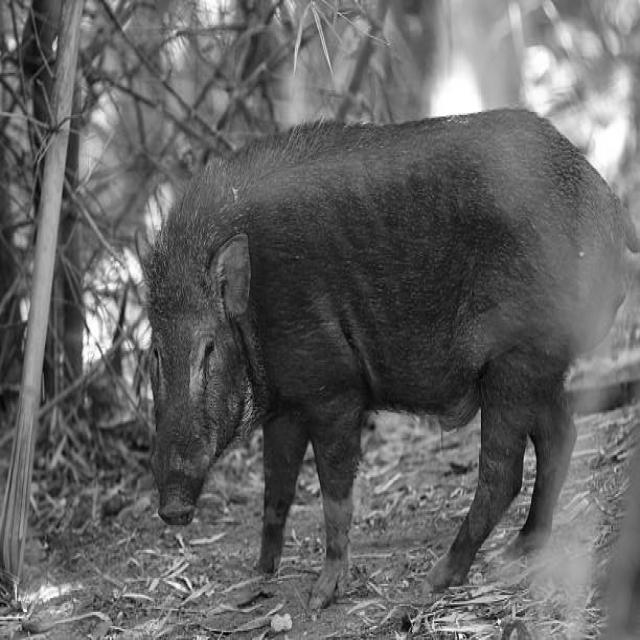boar: (144, 109, 640, 608)
